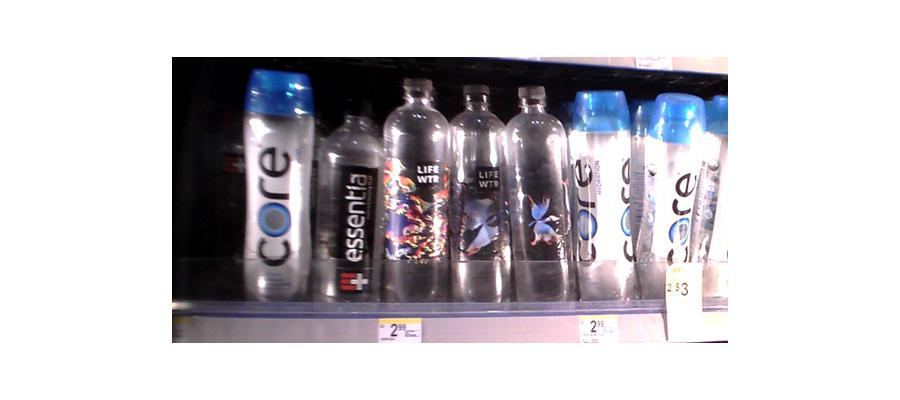bottle: (640, 93, 720, 305), (245, 66, 314, 307), (380, 71, 451, 302), (570, 84, 638, 306), (506, 78, 571, 307), (450, 80, 510, 308), (319, 95, 379, 305)
